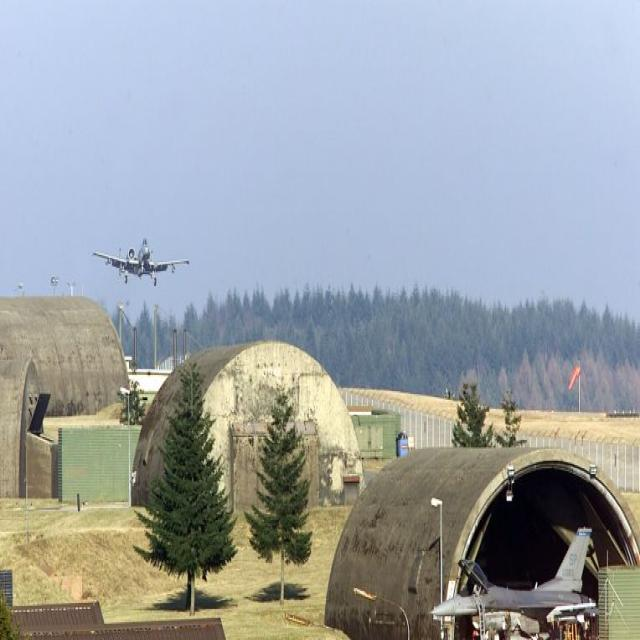MIL_Plane: (430, 526, 599, 640), (92, 237, 190, 287)
